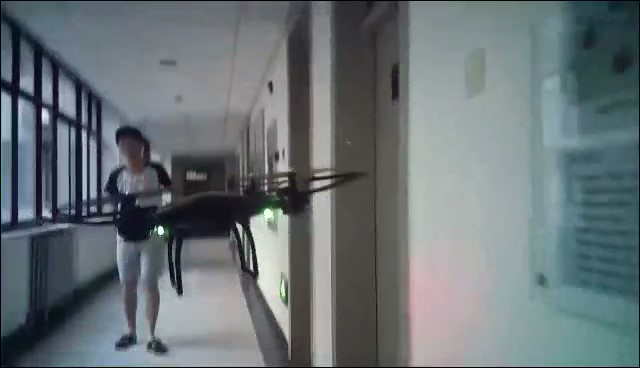drone: (37, 169, 369, 297)
person: (107, 125, 177, 356)
